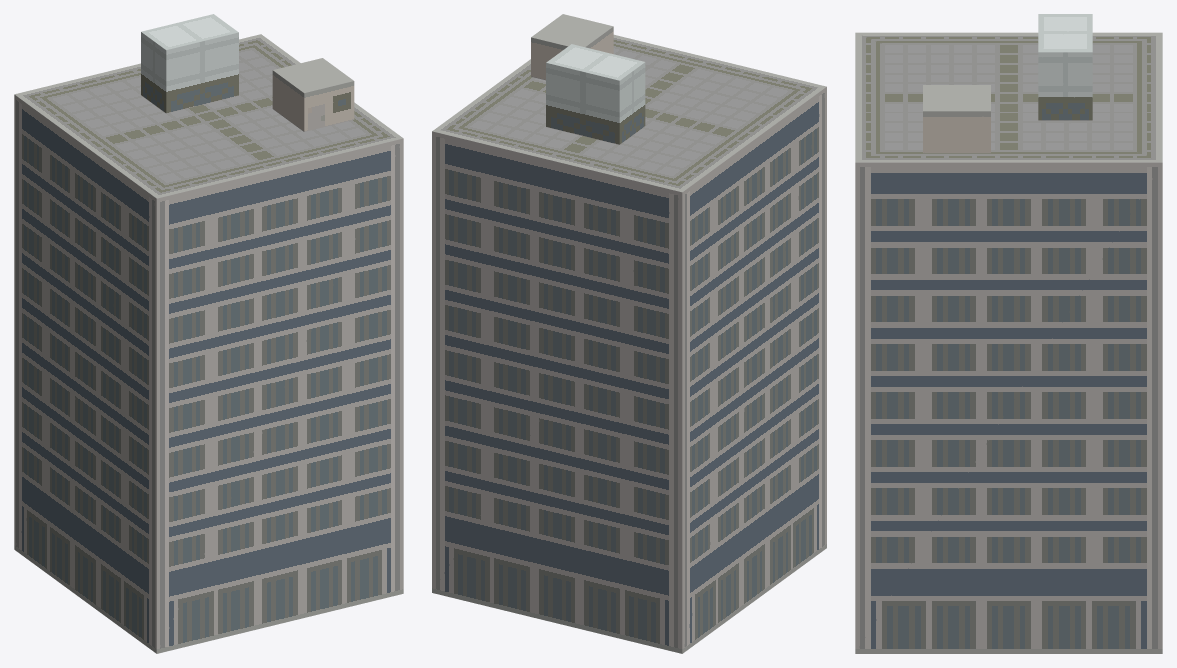
File: 05ae_Shrimp_Building.glb
3 views of the same model, side by side, from view 1: azimuth 30°, elevation 25°; view 2: azimuth 150°, elevation 25°; view 3: azimuth 270°, elevation 25° (orthographic). The views are drawn at different scales.
Parts seen in each view (by area): view 1: part_0; view 2: part_0; view 3: part_0.
Part boxes in pixels (x1=…): part_0: x1=14, y1=14, x2=403, y2=653; part_0: x1=432, y1=14, x2=826, y2=653; part_0: x1=855, y1=14, x2=1162, y2=653.
Size of the model in its own units: 15.25 by 30.62 by 15.25.
Materials: 1 (1 with a texture image).
